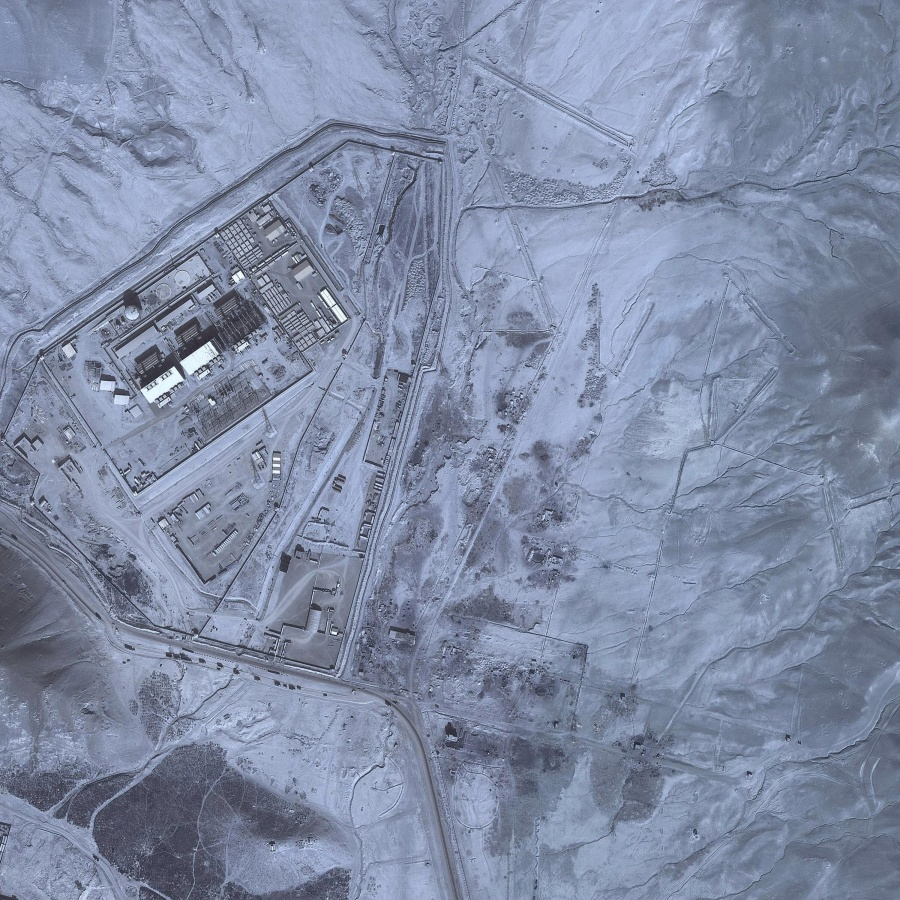PowerPlant: (98, 223, 347, 407)
